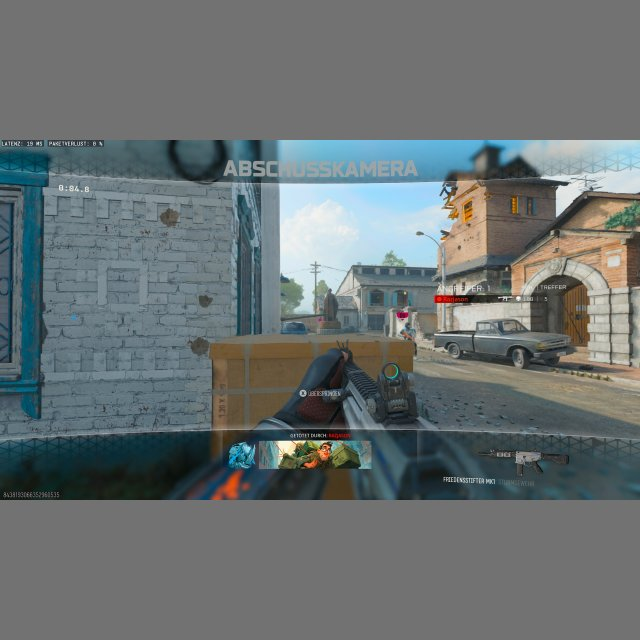player: (399, 321, 416, 343)
